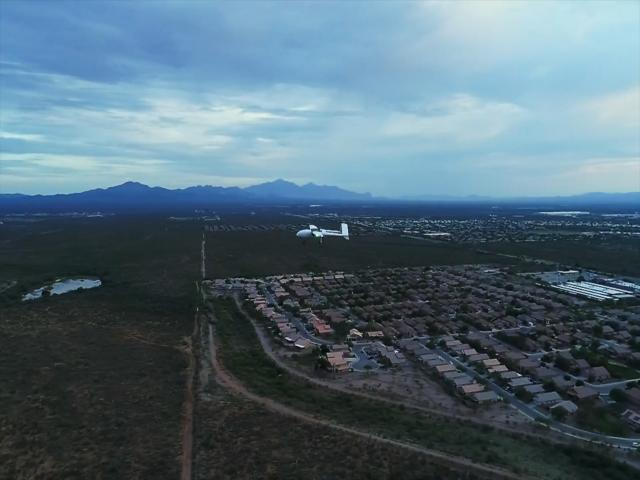plane: (295, 222, 352, 246)
